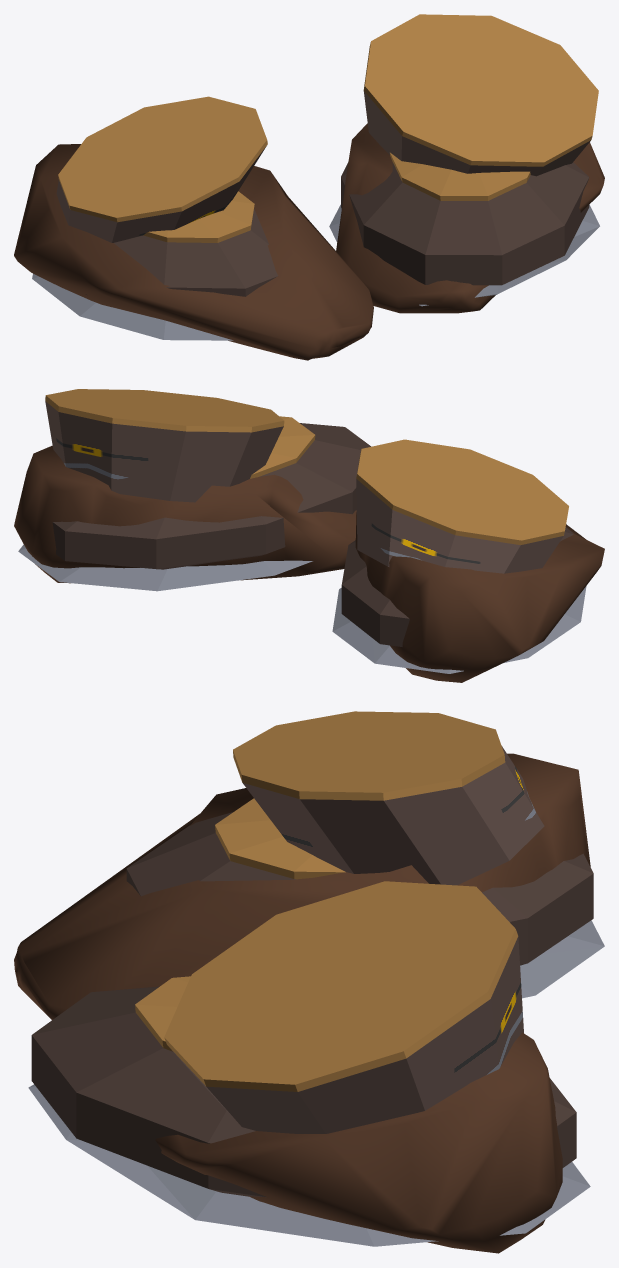
Rendered from side_step_boots_2.glb.
The picture shows the model from 3 angles, top to bottom: view 1: azimuth 30°, elevation 25°; view 2: azimuth 150°, elevation 25°; view 3: azimuth 270°, elevation 25°; orthographic projection. The views are drawn at different scales.
Parts seen in each view (by area): view 1: wear_side_step_boots_2_05_display, wear_side_step_boots_2_02_display, wear_side_step_boots_2_01_display, wear_side_step_boots_2_04_display, wear_side_step_boots_2_00_display, wear_side_step_boots_2_03_display; view 2: wear_side_step_boots_2_01_display, wear_side_step_boots_2_02_display, wear_side_step_boots_2_03_display, wear_side_step_boots_2_04_display, wear_side_step_boots_2_00_display, wear_side_step_boots_2_05_display; view 3: wear_side_step_boots_2_05_display, wear_side_step_boots_2_01_display, wear_side_step_boots_2_03_display, wear_side_step_boots_2_00_display, wear_side_step_boots_2_02_display, wear_side_step_boots_2_04_display.
Boxes of the visible parts, x1,y1,x2,y2 form: wear_side_step_boots_2_05_display: (363, 14, 598, 200); wear_side_step_boots_2_02_display: (14, 144, 373, 360); wear_side_step_boots_2_01_display: (329, 91, 599, 306); wear_side_step_boots_2_04_display: (58, 96, 267, 242); wear_side_step_boots_2_00_display: (32, 146, 278, 340); wear_side_step_boots_2_03_display: (336, 123, 604, 313); wear_side_step_boots_2_01_display: (18, 401, 370, 591); wear_side_step_boots_2_02_display: (355, 512, 604, 682); wear_side_step_boots_2_03_display: (14, 445, 356, 583); wear_side_step_boots_2_04_display: (356, 439, 568, 544); wear_side_step_boots_2_00_display: (332, 479, 586, 673); wear_side_step_boots_2_05_display: (45, 389, 315, 478); wear_side_step_boots_2_05_display: (135, 881, 518, 1091); wear_side_step_boots_2_01_display: (28, 937, 590, 1246); wear_side_step_boots_2_03_display: (155, 1032, 562, 1253); wear_side_step_boots_2_00_display: (126, 746, 604, 998); wear_side_step_boots_2_02_display: (14, 753, 590, 1019); wear_side_step_boots_2_04_display: (215, 711, 505, 879).
Size of the model in its own units: 1.29 by 0.3966 by 0.807.
7 materials, 2 textured.
